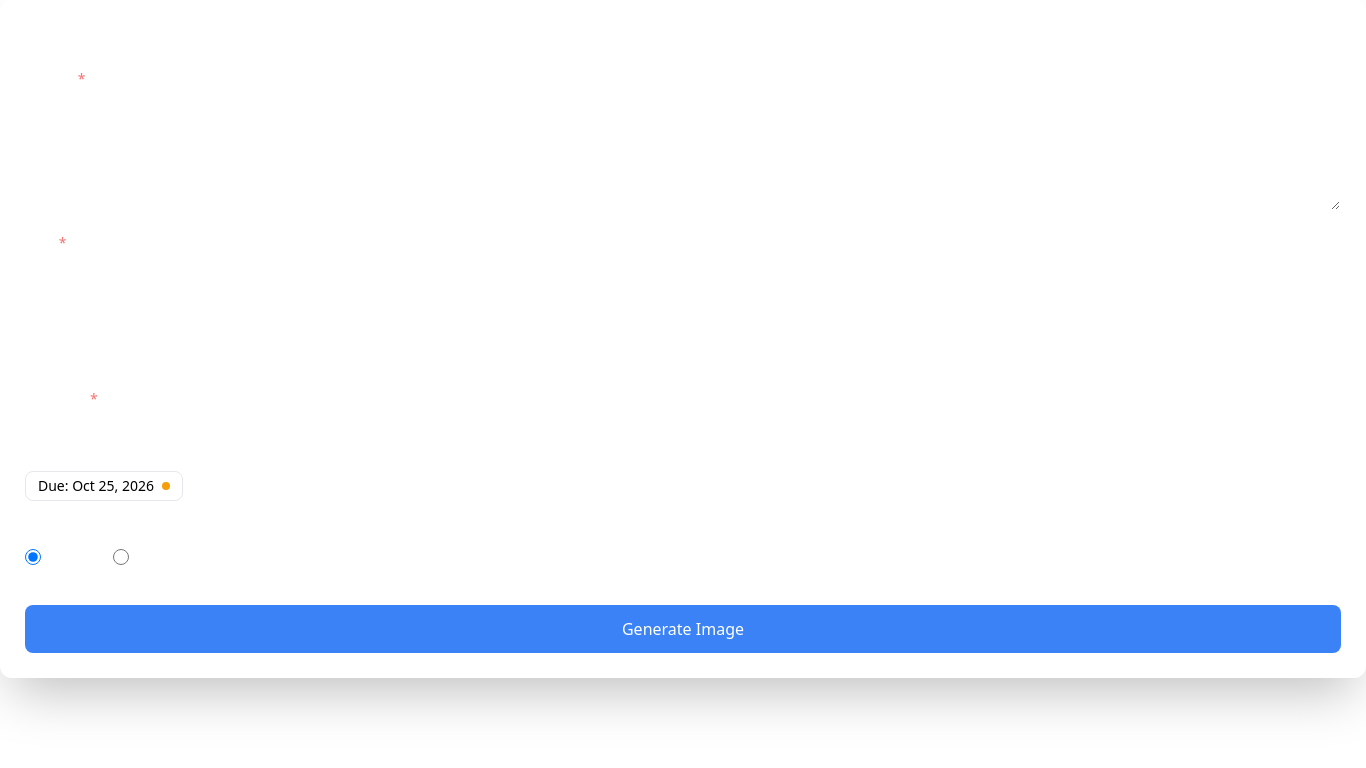
AIGenerator › allows switching between image and video
Click the radio button labelled "Video" at (121, 557), box 113,549 -> 129,565
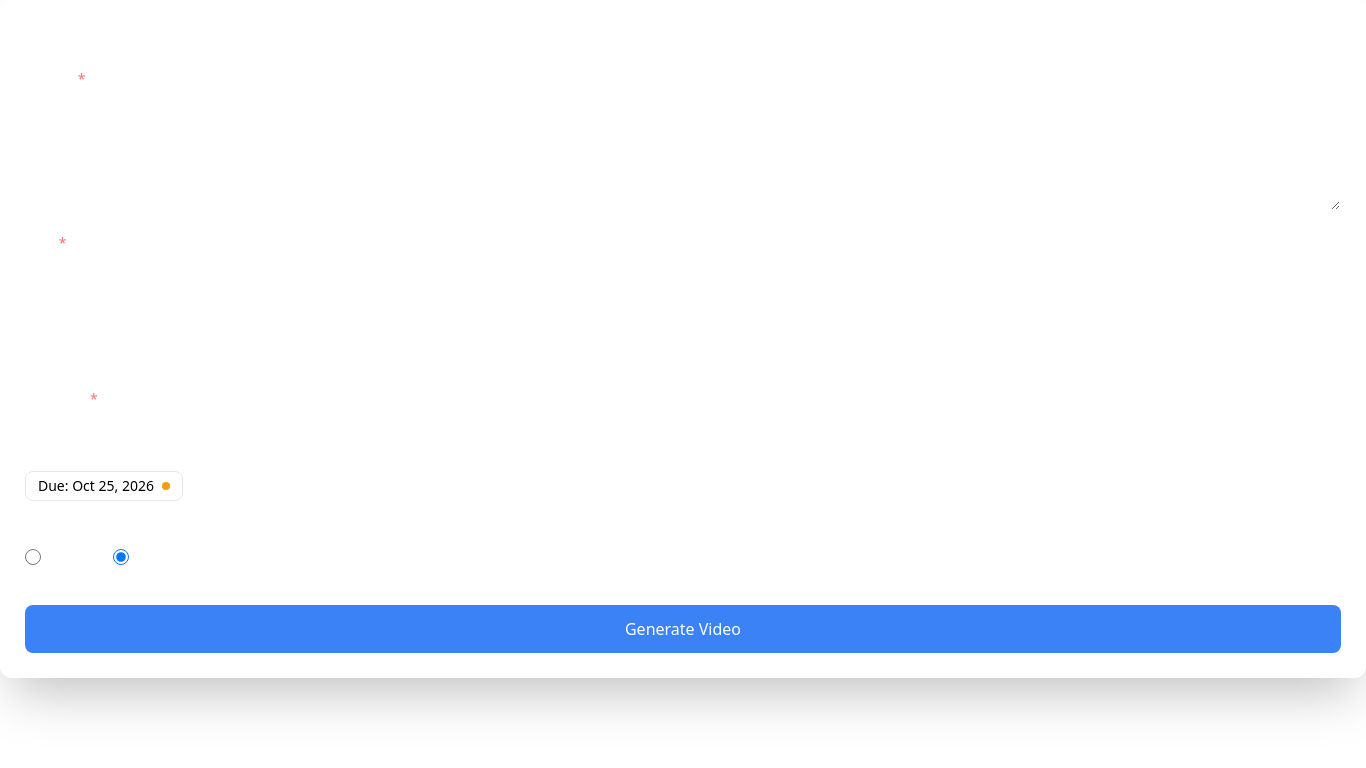
Expected: the radio button labelled "Video" is checked, 113,549 -> 129,565
Expected: the button "Generate Video" is shown, 25,605 -> 1341,653
